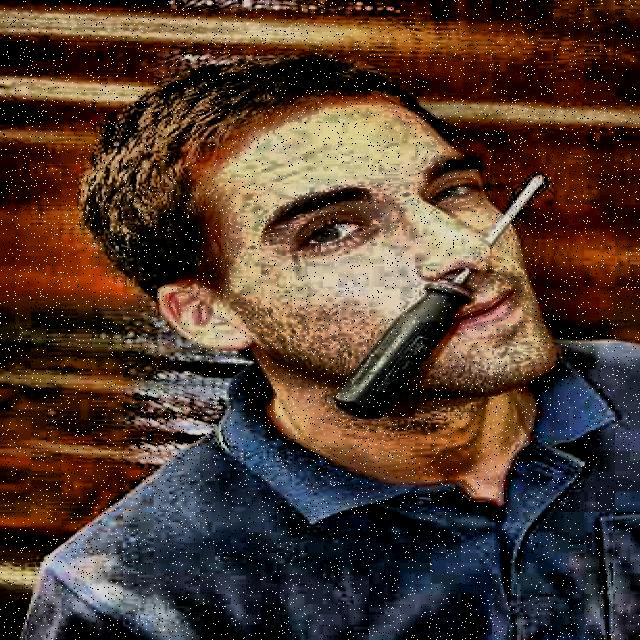screwdriver: (337, 175, 548, 417)
